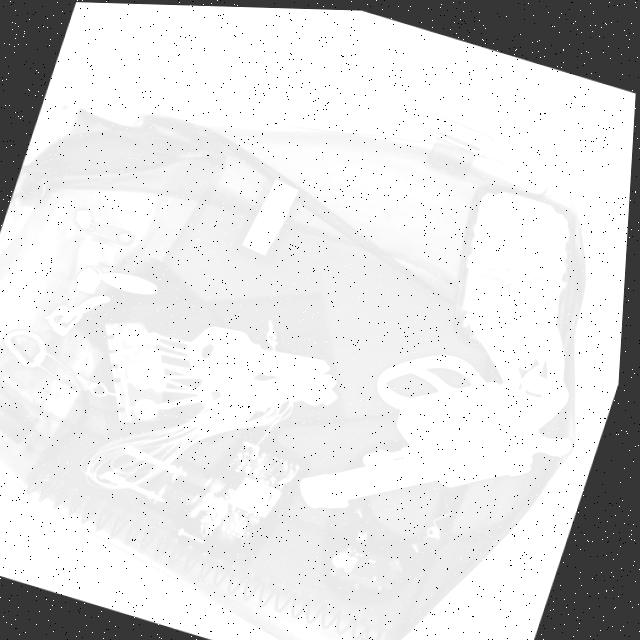pistol: (291, 247, 618, 575)
